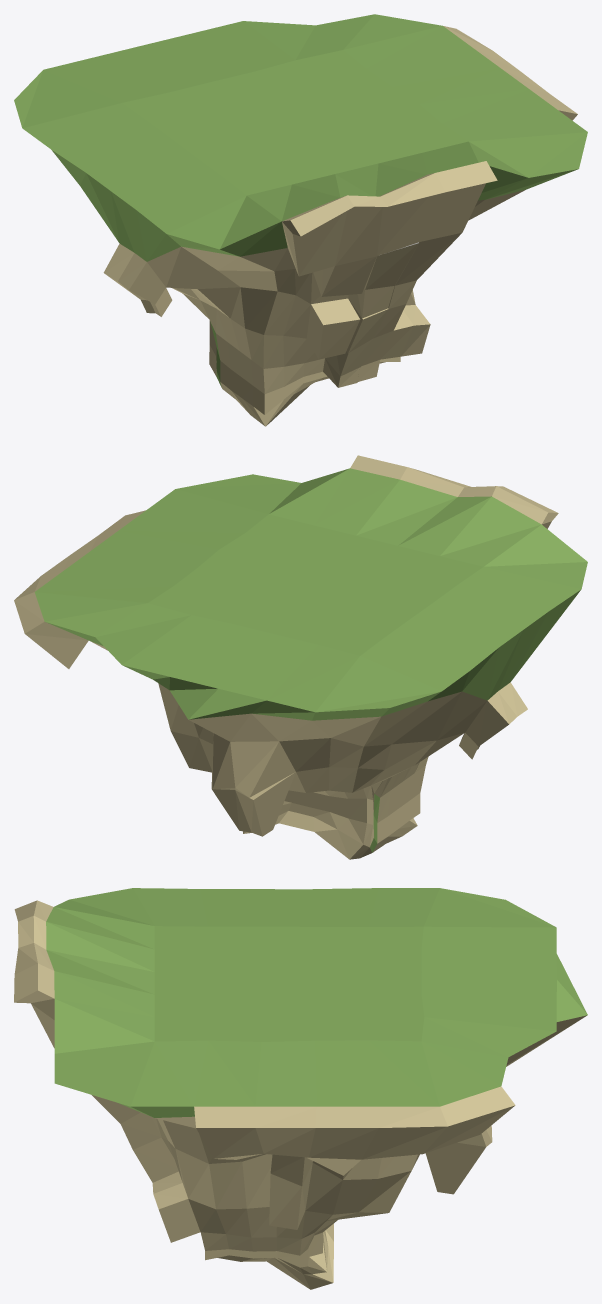
Rendered from Flat_Island_1.fbx.
The picture shows the model from 3 angles, top to bottom: view 1: azimuth 30°, elevation 25°; view 2: azimuth 150°, elevation 25°; view 3: azimuth 270°, elevation 25°; orthographic projection. The views are drawn at different scales.
Visible parts, largest first — view 1: pCube1; view 2: pCube1; view 3: pCube1.
Part boxes in pixels (x1,y1,x2,y2): pCube1: (14, 14, 587, 426); pCube1: (14, 455, 587, 859); pCube1: (14, 888, 587, 1289).
Size of the model in its own units: 33.94 by 21.6 by 35.8.
